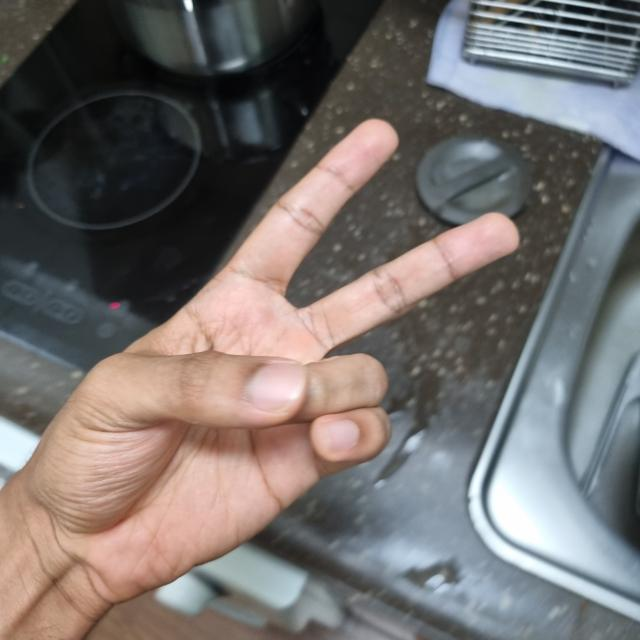Scissors: (24, 119, 516, 596)
